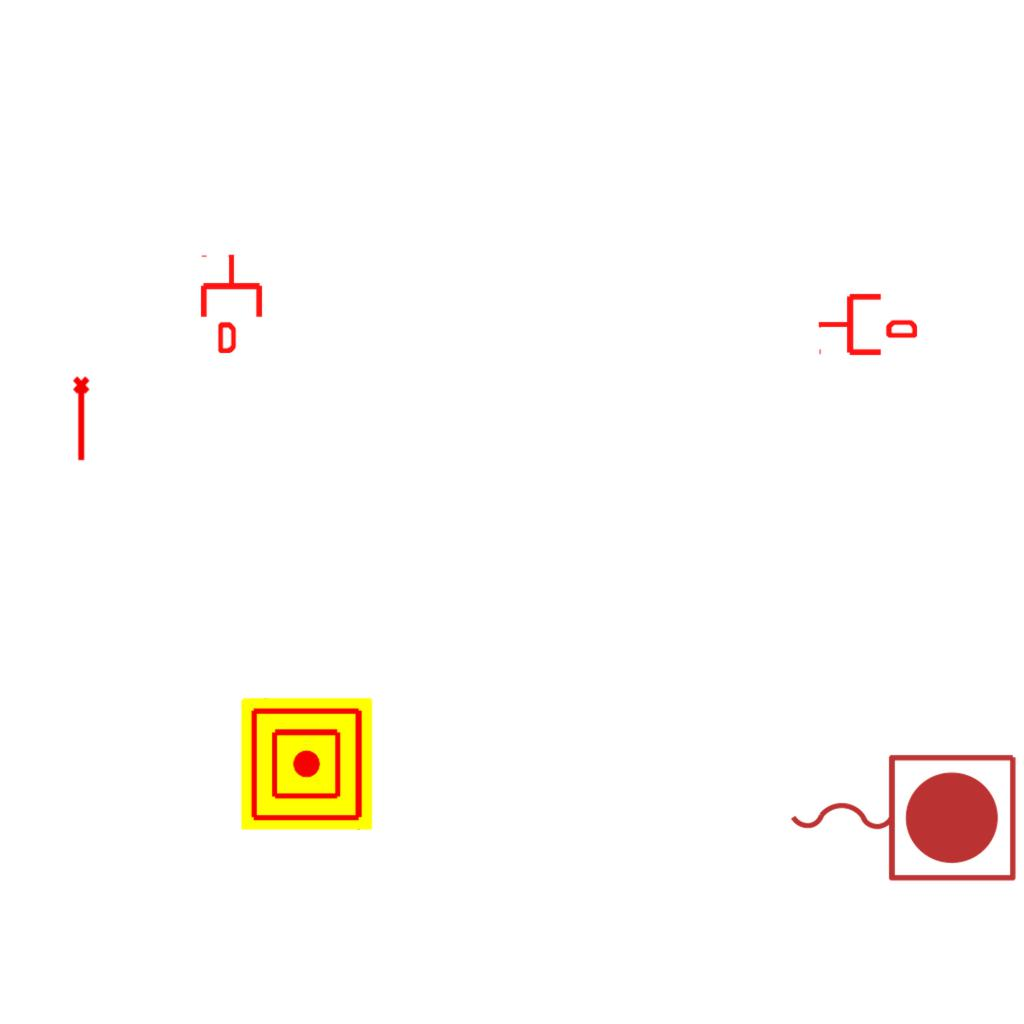ASR_Ansaugoeffnung: (71, 375, 94, 463)
Datenanschluss_einfach: (197, 253, 266, 353), (817, 290, 917, 359)
NAM-Nichtautomatischer_Melder: (241, 698, 373, 830)
Zugtaster: (780, 744, 1024, 888)
